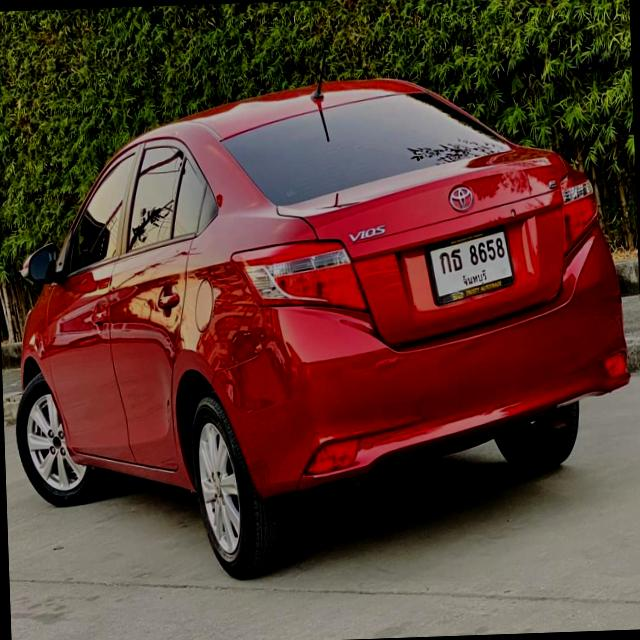license_plate: (424, 226, 518, 307)
